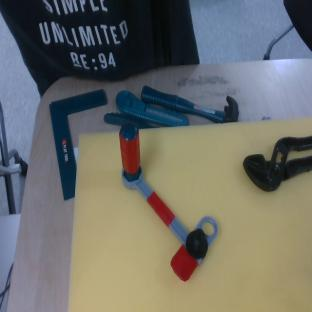pass: (86, 116, 233, 283)
